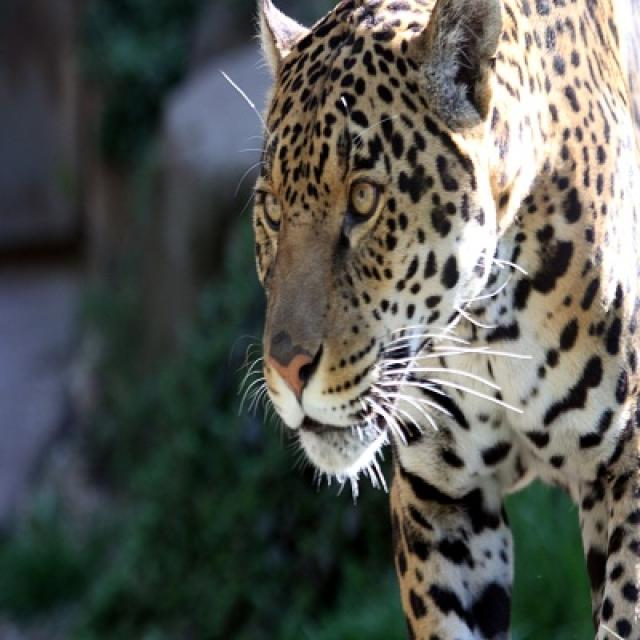Jaguar: (253, 0, 638, 638)
